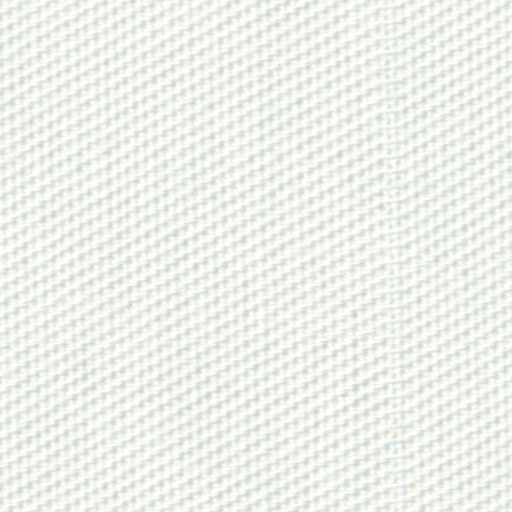TuoSha: (353, 14, 424, 502)
